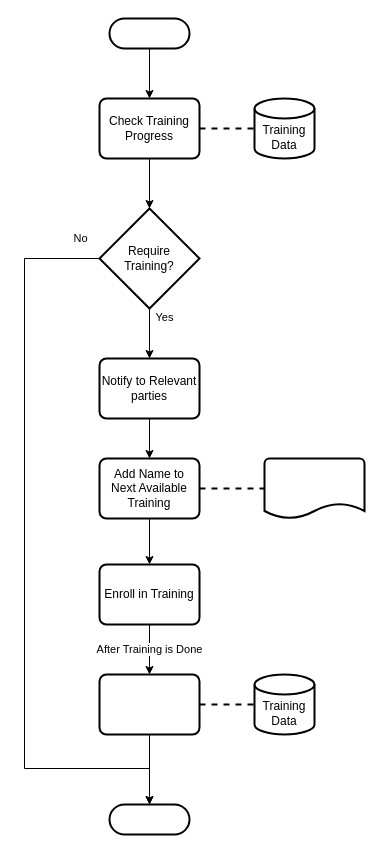
Image size: 383x852. Some labels were removed from this diagram. Each missing label, with the centre of its shape:
"END" goes at point (149, 819).
"Record Training Progress" goes at point (149, 704).
"START" goes at point (149, 33).
"Training Plan" goes at point (314, 488).
